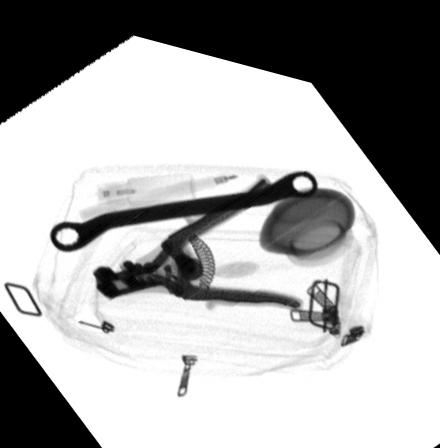Pliers: (91, 160, 303, 294)
Wrench: (49, 153, 321, 248)
